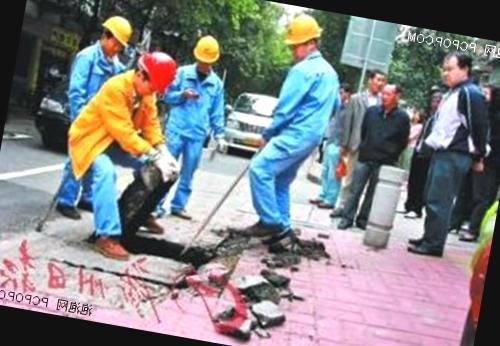no_helmet: (432, 42, 481, 92), (378, 78, 406, 109), (363, 64, 389, 94), (333, 82, 355, 106)
